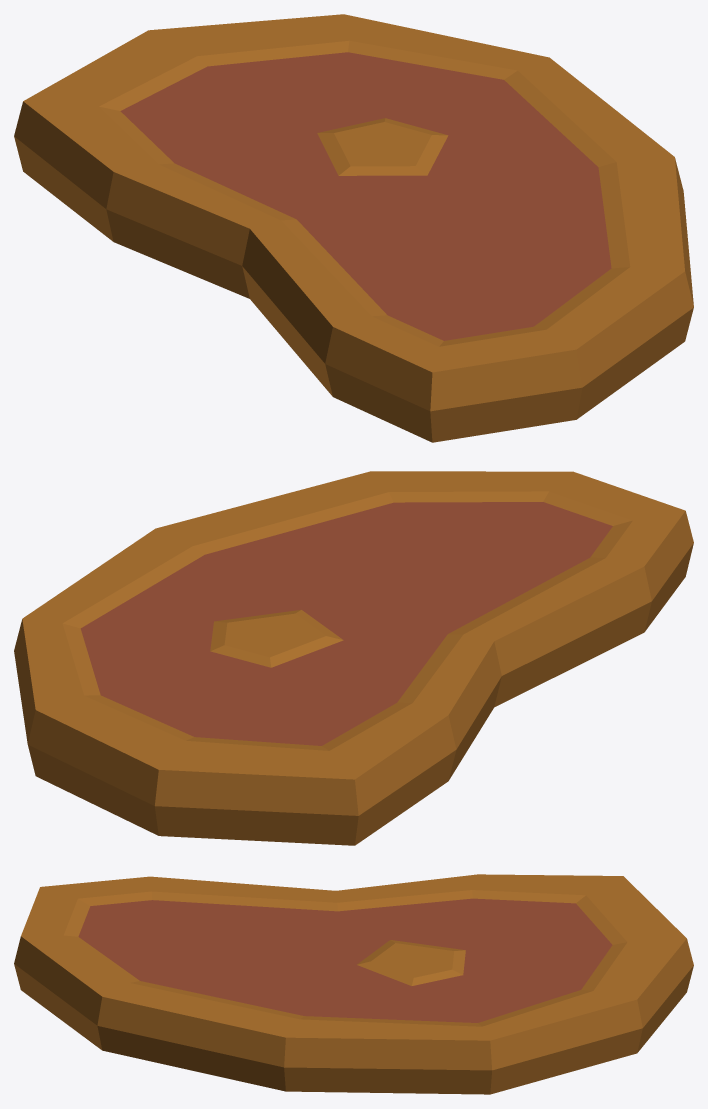
The model's file is PorkChop.glb.
The picture shows the model from 3 angles, top to bottom: view 1: azimuth 30°, elevation 25°; view 2: azimuth 150°, elevation 25°; view 3: azimuth 270°, elevation 25°; orthographic projection. The views are drawn at different scales.
Visible parts, largest first — view 1: PorkChop; view 2: PorkChop; view 3: PorkChop.
Part boxes in pixels (x1,y1,x2,y2): PorkChop: (14,14,693,442); PorkChop: (14,471,693,845); PorkChop: (14,874,693,1094).
Bounding box in the file's own units: 0.1251 × 0.0183 × 0.2089.
